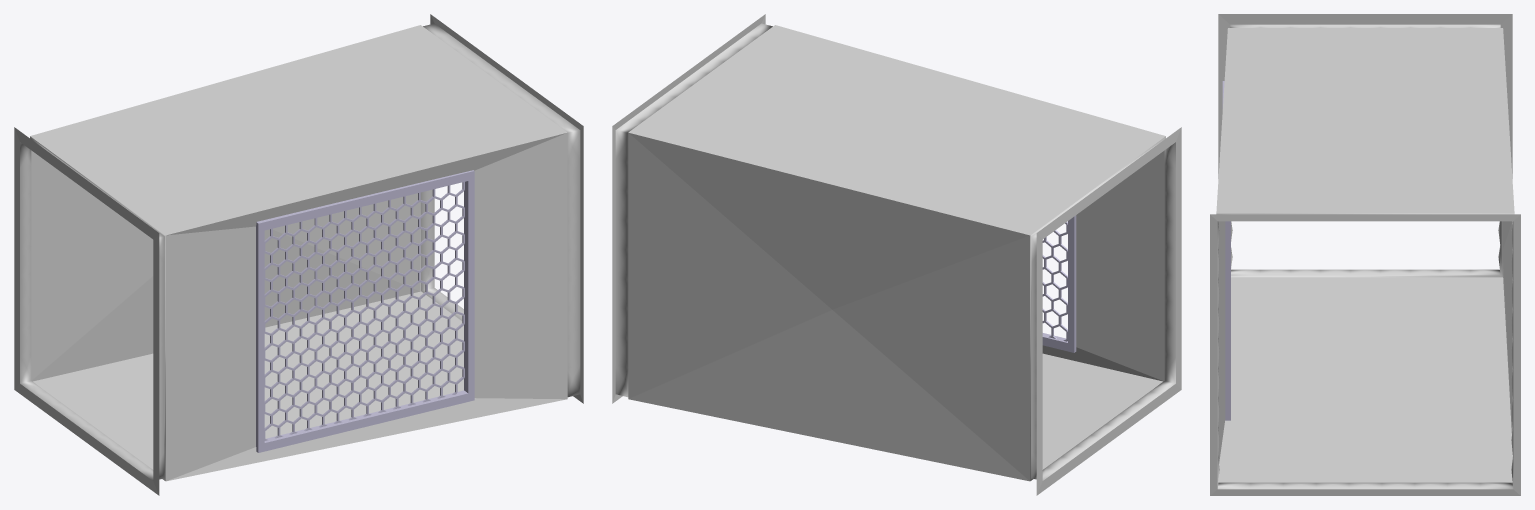
File: VentShaftOpen.fbx
The picture shows the model from 3 angles, left to right: view 1: azimuth 30°, elevation 25°; view 2: azimuth 150°, elevation 25°; view 3: azimuth 270°, elevation 25°; orthographic projection.
Parts seen in each view (by area): view 1: Vent, MetalGridTile; view 2: Vent, MetalGridTile; view 3: Vent, MetalGridTile.
Boxes of the visible parts, x1,y1,x2,y2 form: Vent: (14, 14, 583, 495); MetalGridTile: (256, 170, 474, 452); Vent: (612, 14, 1181, 495); MetalGridTile: (1042, 215, 1076, 352); Vent: (1210, 14, 1520, 495); MetalGridTile: (1222, 81, 1230, 420).
Bounding box in the file's own units: 453 × 286 × 286.
